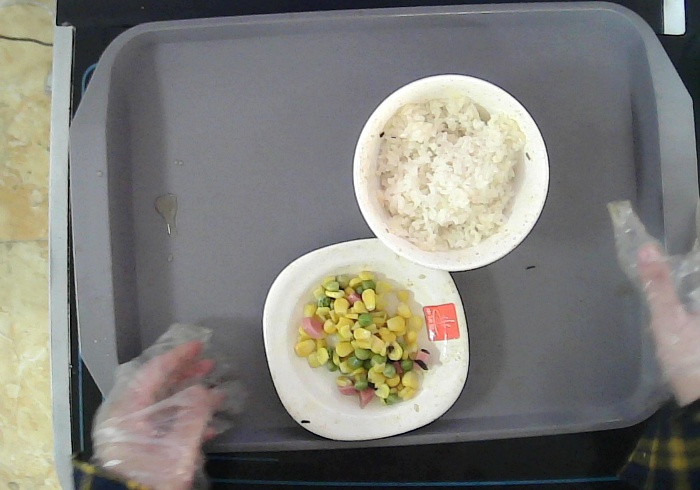SHKJ-Bai_Se_Si_Fang_Cai_Die: (260, 235, 473, 442)
SHKJ-Fan_Wan: (349, 71, 552, 273)
